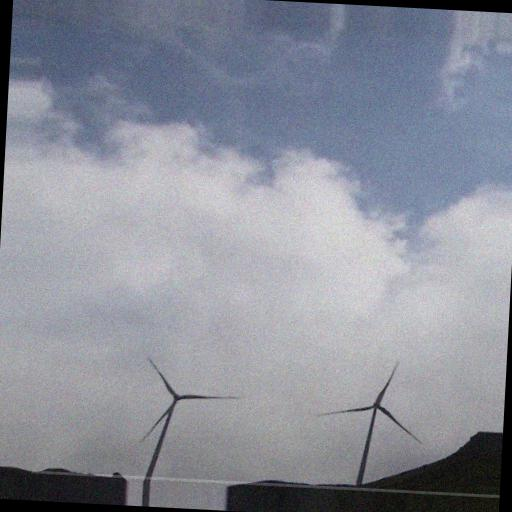wind turbine: (315, 359, 426, 479), (138, 355, 240, 474)
